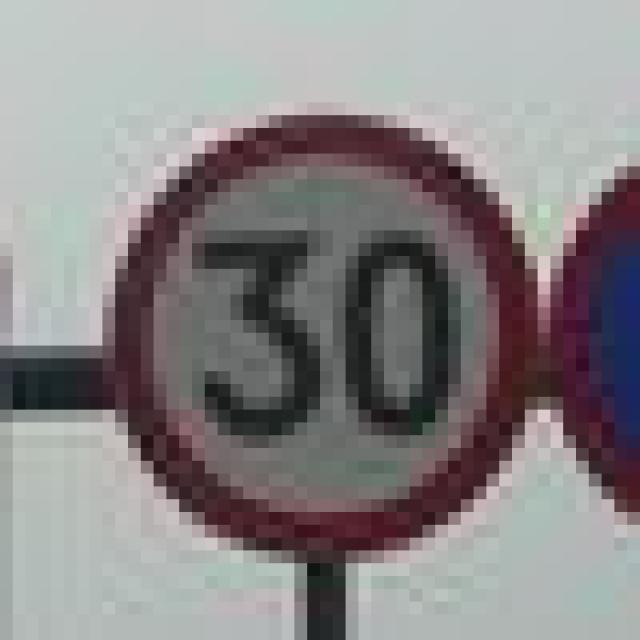SPEED_LIMIT_30: (90, 90, 524, 550)
